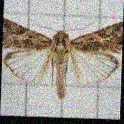Spodoptera litura: (2, 16, 122, 100)
